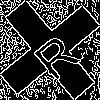R: (25, 25, 82, 83)
